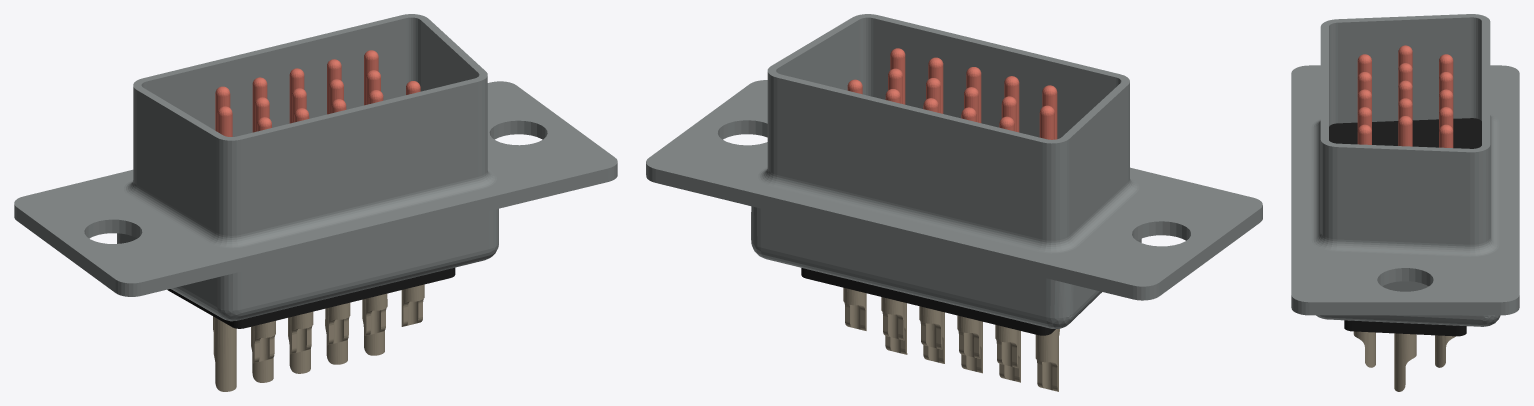
The model's file is DE15 Connector.obj.
The picture shows the model from 3 angles, left to right: view 1: azimuth 30°, elevation 25°; view 2: azimuth 150°, elevation 25°; view 3: azimuth 270°, elevation 25°; orthographic projection. The views are drawn at different scales.
Parts seen in each view (by area): view 1: DE15_Connector; view 2: DE15_Connector; view 3: DE15_Connector.
Part boxes in pixels (bbox=[...]): DE15_Connector: bbox=[14, 14, 617, 391]; DE15_Connector: bbox=[646, 14, 1262, 391]; DE15_Connector: bbox=[1291, 14, 1519, 391].
Size of the model in its own units: 0.0248 by 0.0136 by 0.0101.
